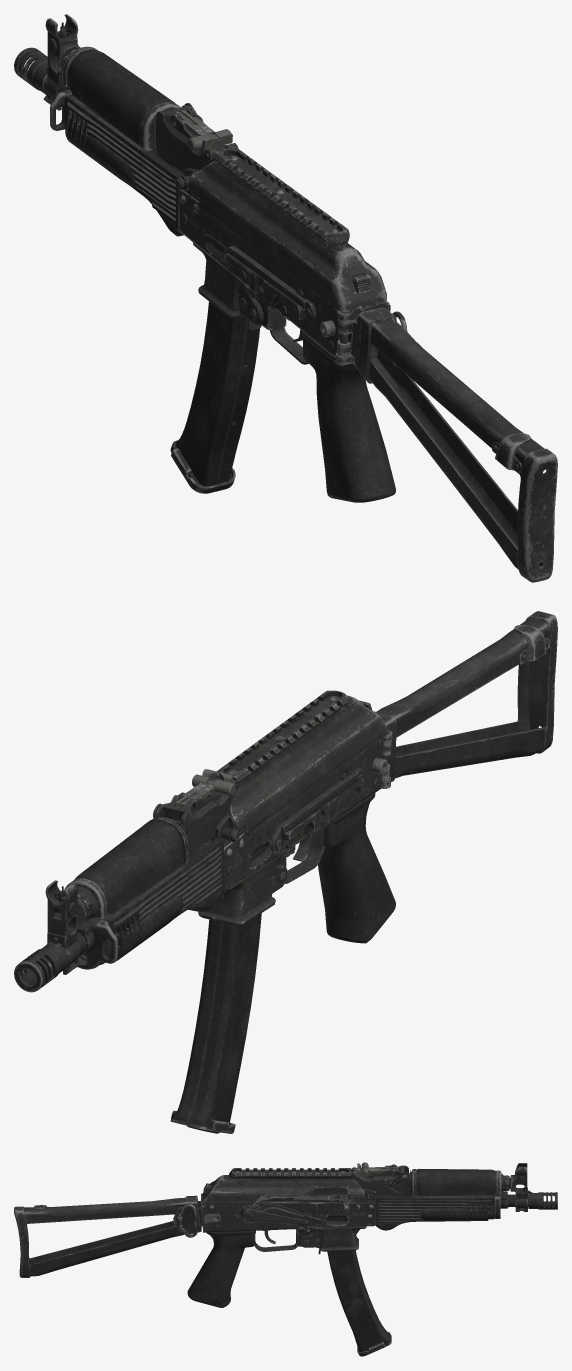
Rendered from w_vityaz.glb.
The picture shows the model from 3 angles, top to bottom: view 1: azimuth 30°, elevation 25°; view 2: azimuth 150°, elevation 25°; view 3: azimuth 270°, elevation 25°; orthographic projection. The views are drawn at different scales.
Parts seen in each view (by area): view 1: body, mag; view 2: body, mag; view 3: body, mag.
Boxes of the visible parts, bbox=[...] form: body: bbox=[14, 14, 557, 582]; mag: bbox=[170, 301, 259, 493]; body: bbox=[14, 611, 557, 992]; mag: bbox=[170, 913, 261, 1133]; body: bbox=[14, 1162, 557, 1307]; mag: bbox=[327, 1250, 391, 1356].
Size of the model in its own units: 0.0633 by 0.2667 by 0.7.
5 materials, 5 textured.
